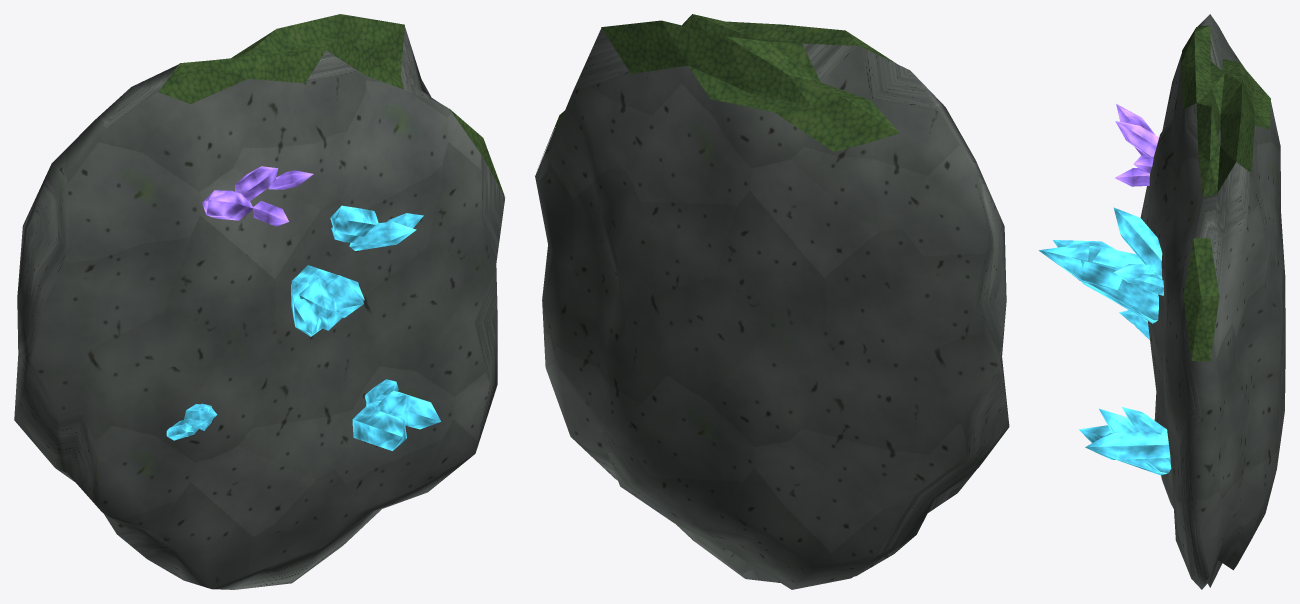
File: crystal_wall_vein.glb
3 views of the same model, side by side, from view 1: azimuth 30°, elevation 25°; view 2: azimuth 150°, elevation 25°; view 3: azimuth 270°, elevation 25° (orthographic). The views are drawn at different scales.
Visible parts, largest first — view 1: crystal_wall_vein__stone_dark, crystal_wall_vein__moss, crystal_wall_vein__crystal_cyan, crystal_wall_vein__crystal_violet; view 2: crystal_wall_vein__stone_dark, crystal_wall_vein__moss; view 3: crystal_wall_vein__stone_dark, crystal_wall_vein__moss, crystal_wall_vein__crystal_cyan, crystal_wall_vein__crystal_violet.
Boxes of the visible parts, <box> form: crystal_wall_vein__stone_dark: <box>14,26,504,589</box>; crystal_wall_vein__moss: <box>158,14,505,197</box>; crystal_wall_vein__crystal_cyan: <box>166,205,440,450</box>; crystal_wall_vein__crystal_violet: <box>202,166,313,226</box>; crystal_wall_vein__stone_dark: <box>535,28,1009,589</box>; crystal_wall_vein__moss: <box>537,14,899,169</box>; crystal_wall_vein__stone_dark: <box>1140,14,1285,589</box>; crystal_wall_vein__moss: <box>1180,25,1270,361</box>; crystal_wall_vein__crystal_cyan: <box>1038,207,1171,475</box>; crystal_wall_vein__crystal_violet: <box>1115,104,1158,186</box>.
Bounding box in the file's own units: 2.89 × 3.22 × 1.4.
Materials: 4 (4 with a texture image).
